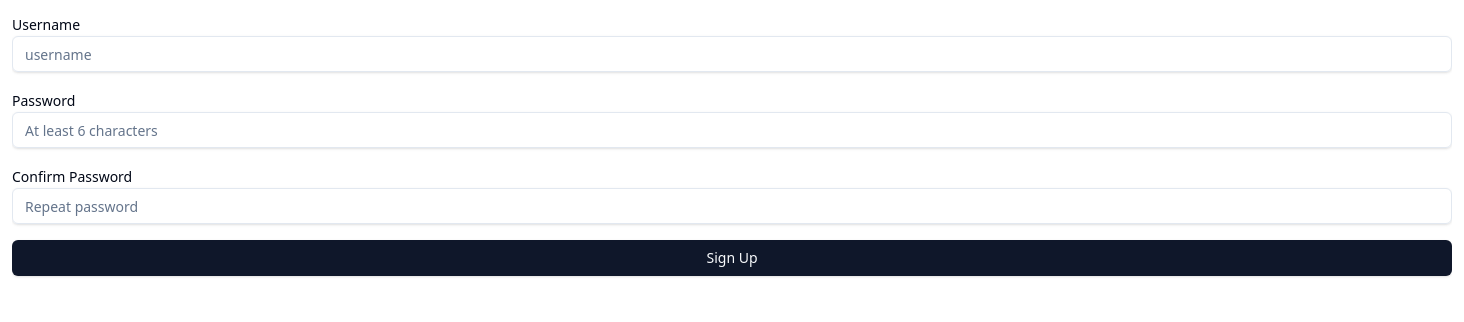
Test: RegisterForm › validates password mismatch
The image size is (1464, 322).
Type "newuser" into the field labelled "Username" at (732, 54), box [12,36,1452,72]
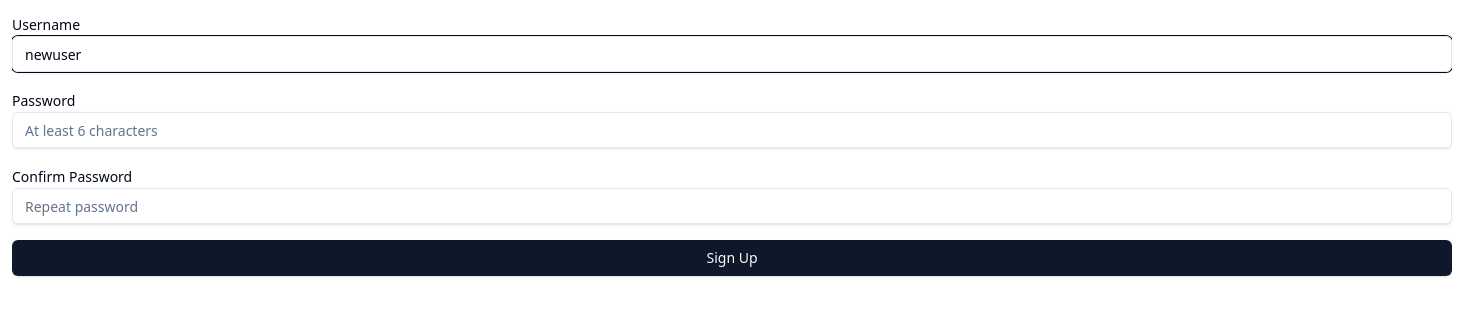
Type "password123" into the password field labelled "Password" at (732, 130), box [12,112,1452,148]
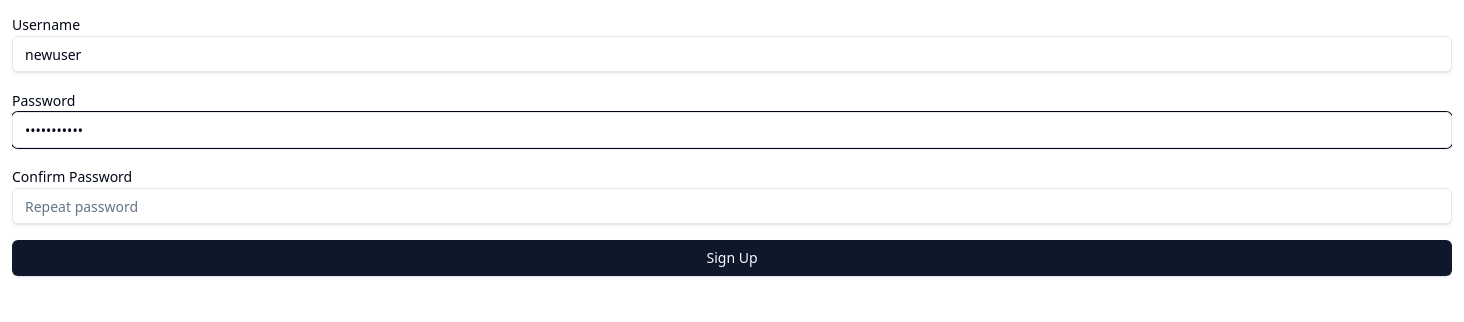
Type "different" into the password field labelled "Confirm Password" at (732, 206), box [12,188,1452,224]
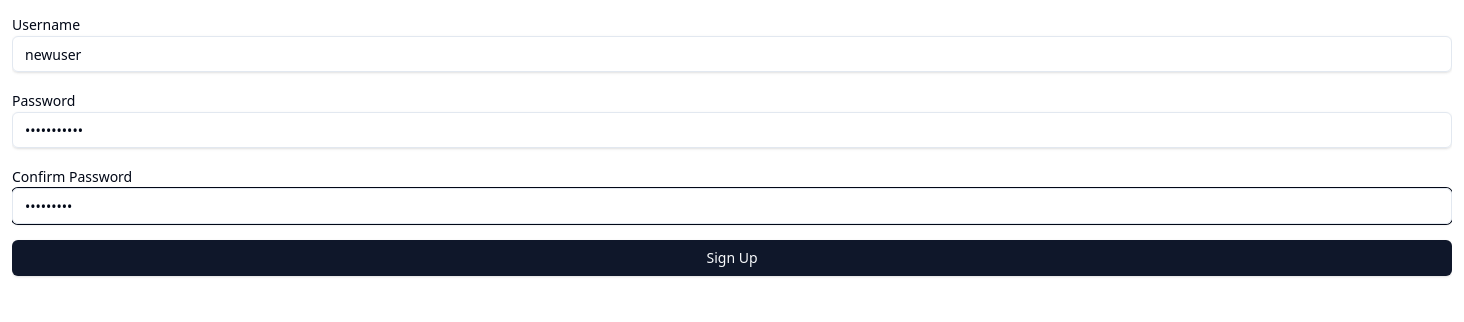
Click the button "Sign Up" at (732, 258), box [12,240,1452,276]
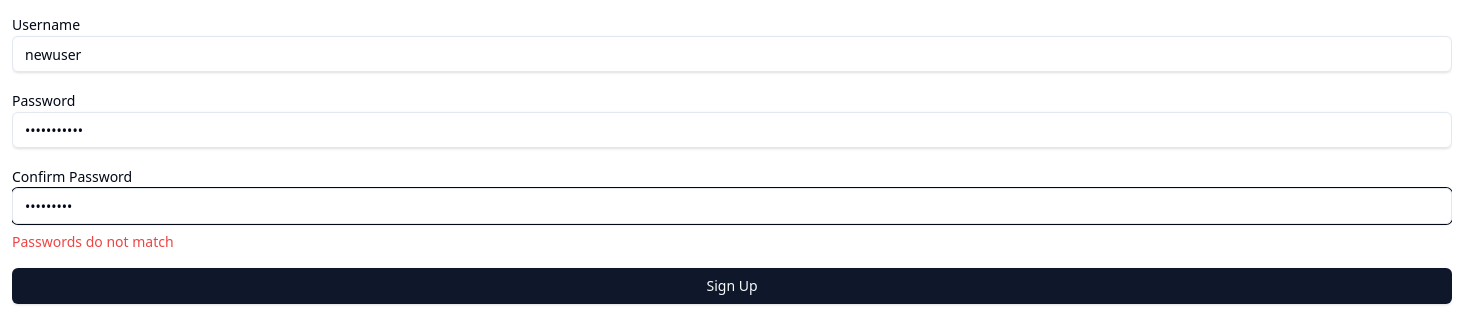
Expected: the text "Passwords do not match" is shown, [12,232,174,251]
